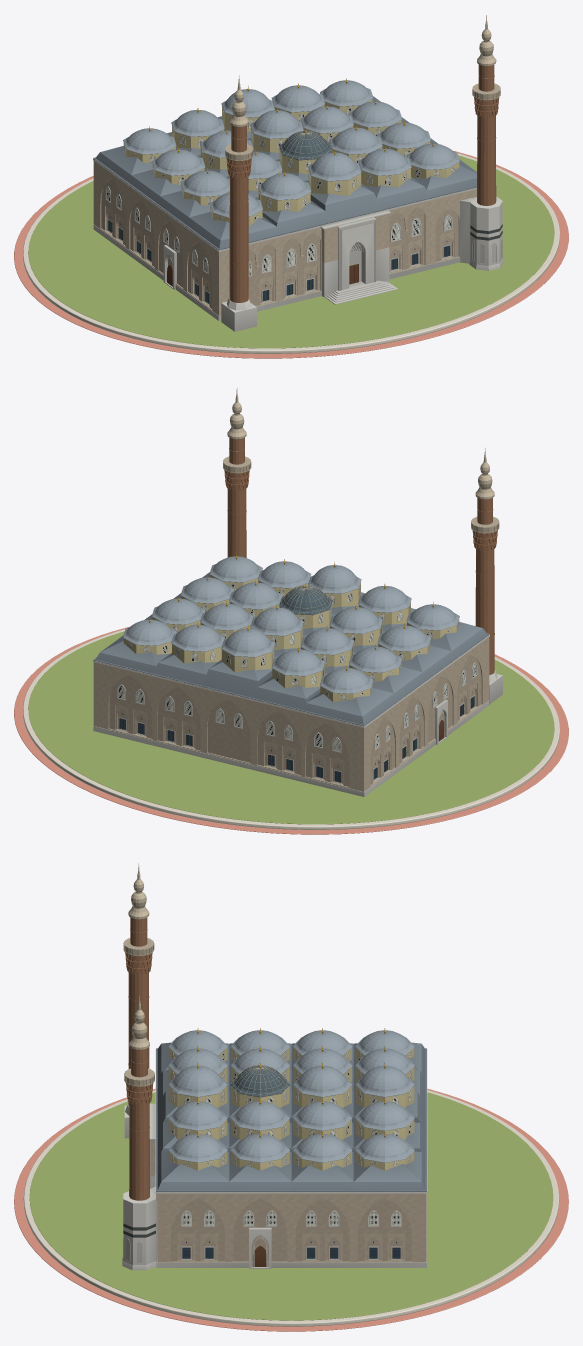
The model's file is ulu-cami_gpt_v16_sunum.glb.
The picture shows the model from 3 angles, top to bottom: view 1: azimuth 30°, elevation 25°; view 2: azimuth 150°, elevation 25°; view 3: azimuth 270°, elevation 25°; orthographic projection. The views are drawn at different scales.
Visible parts, largest first — view 1: Zemin_Cim, Kubbeler_19, Cati, Cephe_Kuzey, Cephe_Dogu, Minare_1, Zemin_Golge, Minare_2, Zemin_Kaide, Pencere_Girintileri, Tac_Kapi, Giris_Cikintili_Blok (+7 smaller); view 2: Zemin_Cim, Kubbeler_19, Cephe_Guney, Cati, Cephe_Dogu, Zemin_Golge, Zemin_Kaide, Pencere_Girintileri, Minare_2, Minare_1, Mermer_Bant, Kasnak_Pencereleri (+3 smaller); view 3: Zemin_Cim, Kubbeler_19, Cephe_Bati, Cati, Minare_1, Zemin_Golge, Zemin_Kaide, Minare_2, Pencere_Girintileri, Kasnak_Pencereleri, Sadirvan_Kubbe, Mermer_Bant (+3 smaller).
Boxes of the visible parts, left/top/right/bottom form: Zemin_Cim: left=28, top=155, right=554, bottom=348; Kubbeler_19: left=123, top=80, right=459, bottom=226; Cati: left=93, top=96, right=476, bottom=250; Cephe_Kuzey: left=218, top=189, right=476, bottom=315; Cephe_Dogu: left=94, top=161, right=218, bottom=314; Minare_1: left=458, top=15, right=503, bottom=270; Zemin_Golge: left=14, top=150, right=568, bottom=358; Minare_2: left=221, top=75, right=256, bottom=331; Zemin_Kaide: left=23, top=153, right=559, bottom=353; Pencere_Girintileri: left=104, top=205, right=455, bottom=307; Tac_Kapi: left=325, top=217, right=397, bottom=304; Giris_Cikintili_Blok: left=320, top=210, right=390, bottom=297; Zemin_Cim: left=28, top=631, right=554, bottom=824; Kubbeler_19: left=123, top=556, right=459, bottom=702; Cephe_Guney: left=93, top=662, right=364, bottom=791; Cati: left=93, top=572, right=489, bottom=726; Cephe_Dogu: left=364, top=637, right=488, bottom=790; Zemin_Golge: left=14, top=626, right=568, bottom=834; Zemin_Kaide: left=23, top=629, right=559, bottom=829; Pencere_Girintileri: left=114, top=681, right=478, bottom=785; Minare_2: left=471, top=448, right=502, bottom=703; Minare_1: left=223, top=388, right=251, bottom=557; Mermer_Bant: left=93, top=700, right=489, bottom=796; Kasnak_Pencereleri: left=127, top=580, right=458, bottom=699; Zemin_Cim: left=29, top=1092, right=553, bottom=1320; Kubbeler_19: left=168, top=1030, right=414, bottom=1170; Cephe_Bati: left=157, top=1193, right=425, bottom=1266; Cati: left=156, top=1042, right=426, bottom=1191; Minare_1: left=122, top=994, right=157, bottom=1270; Zemin_Golge: left=14, top=1088, right=568, bottom=1331; Zemin_Kaide: left=23, top=1090, right=559, bottom=1326; Minare_2: left=123, top=863, right=154, bottom=1138; Pencere_Girintileri: left=177, top=1233, right=405, bottom=1261; Kasnak_Pencereleri: left=171, top=1052, right=411, bottom=1165; Sadirvan_Kubbe: left=230, top=1065, right=290, bottom=1107; Mermer_Bant: left=156, top=1194, right=426, bottom=1267.
Size of the model in its own units: 126 by 62.14 by 114.
20 materials, 4 textured.
